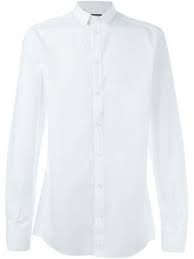C_shirt: (5, 1, 188, 259)
